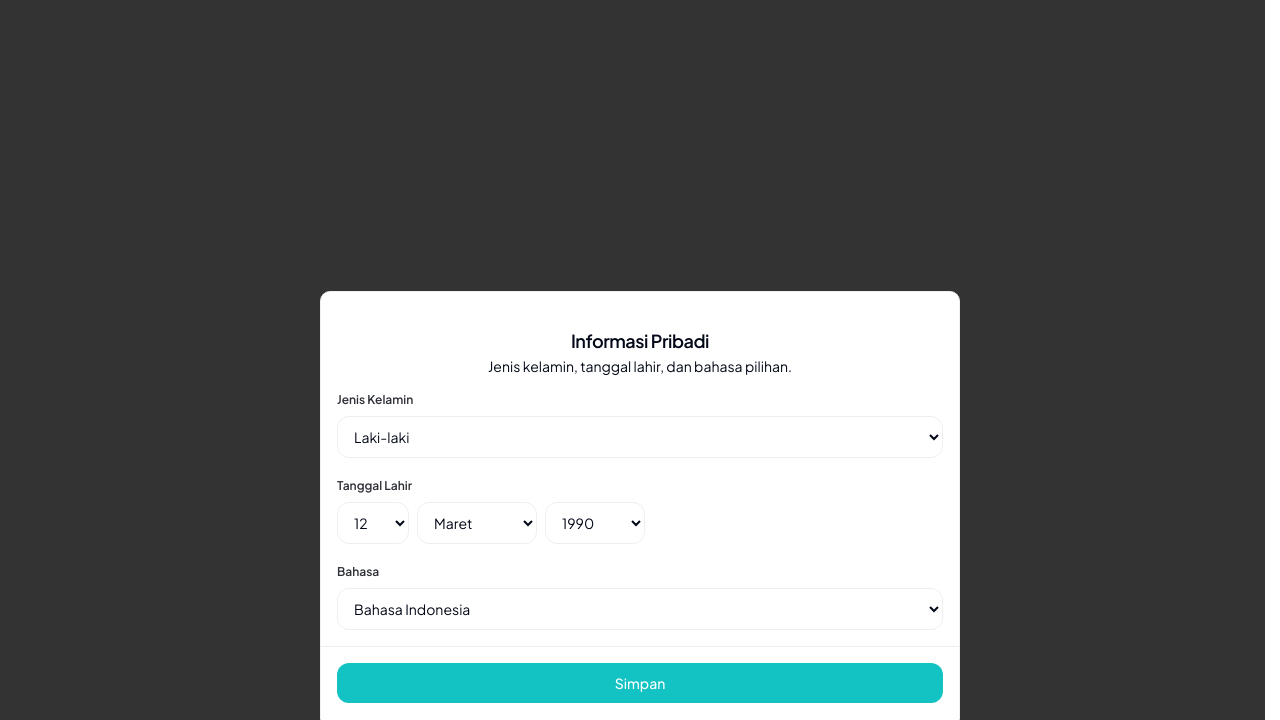
Test: End-to-end locale flow (manual check automated) › renders Indonesian by default and switches to English on save without a reload
expect the dropdown named "Tanggal" is shown: met, box x1=337 y1=502 x2=409 y2=544
expect the dropdown named "Bulan" is shown: met, box x1=417 y1=502 x2=537 y2=544
# the user picks English as preferred language and saves.
Select "English" in the dropdown with test id "language-select" at (640, 609), box x1=337 y1=588 x2=943 y2=630
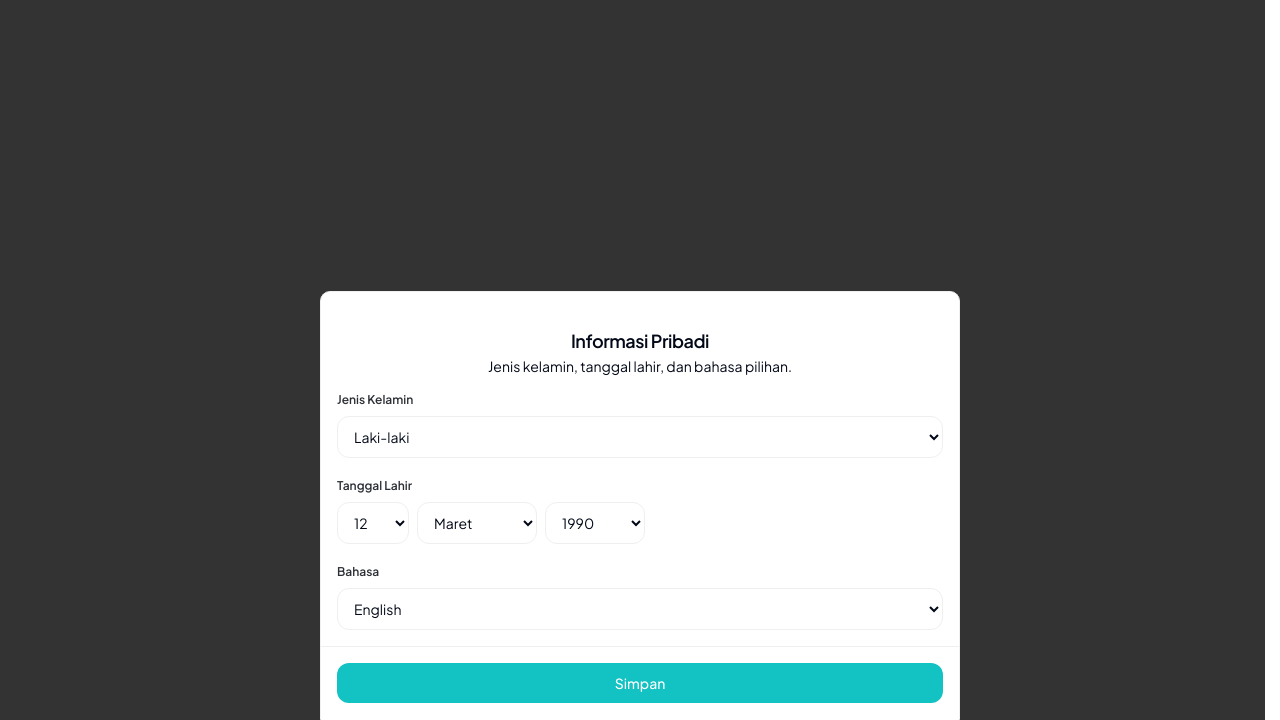
Click the button "Simpan".
click(640, 683)  # box x1=337 y1=663 x2=943 y2=703
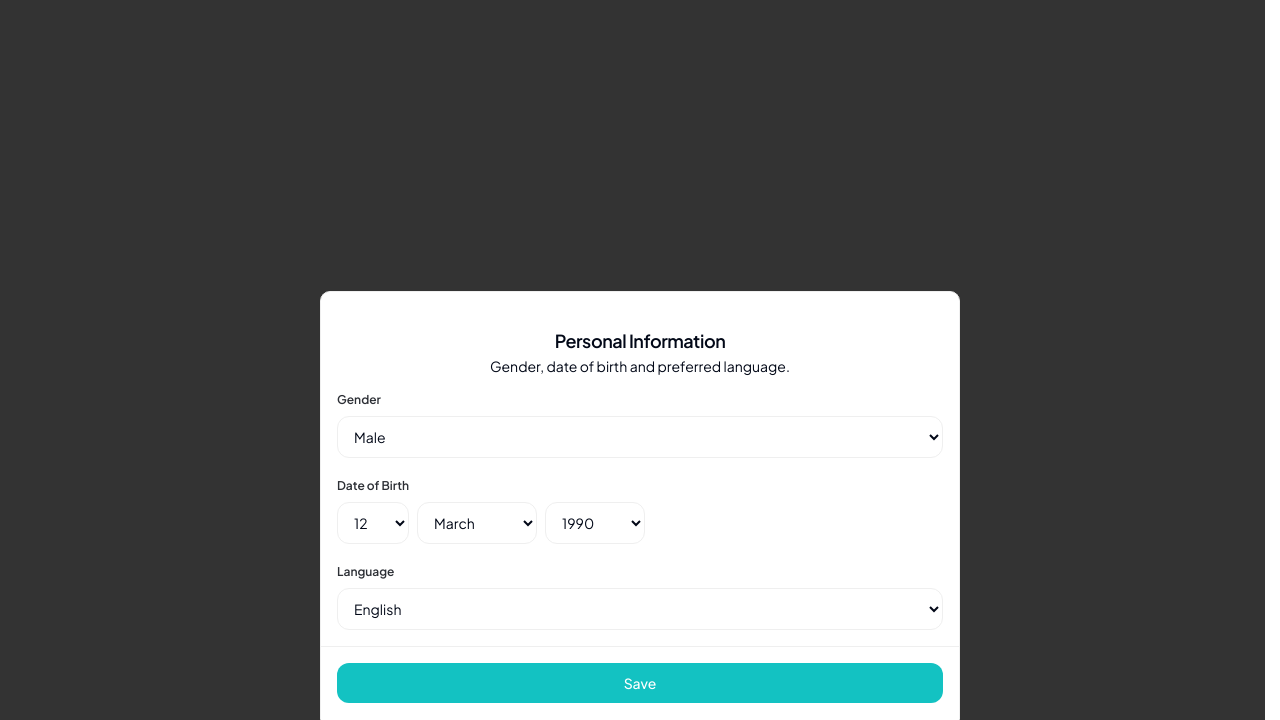
expect the dropdown named "Day" is shown: met, box x1=337 y1=502 x2=409 y2=544
expect the dropdown named "Month" is shown: met, box x1=417 y1=502 x2=537 y2=544
expect the button "Save" is shown: met, box x1=337 y1=663 x2=943 y2=703
